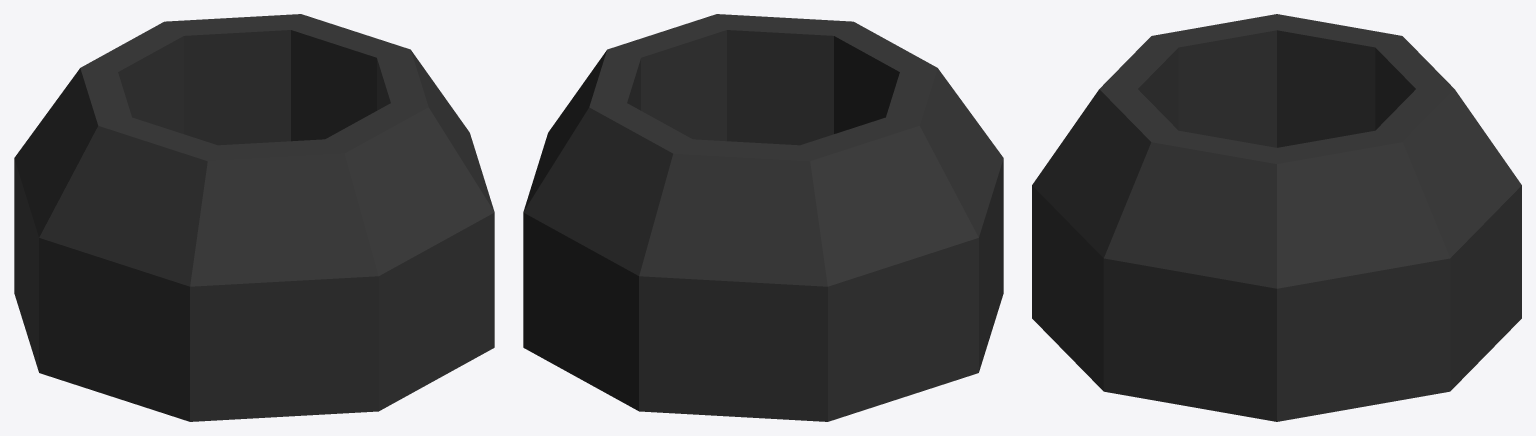
The model's file is trapBase_type_01.fbx.
3 renders of one model, left to right at view 1: azimuth 30°, elevation 25°; view 2: azimuth 150°, elevation 25°; view 3: azimuth 270°, elevation 25°, orthographic.
Visible parts, largest first — view 1: trapBase_type_01; view 2: trapBase_type_01; view 3: trapBase_type_01.
Part boxes in pixels (box(x1,y1,x2,y2)): trapBase_type_01: box(14, 14, 494, 421); trapBase_type_01: box(523, 14, 1003, 421); trapBase_type_01: box(1032, 14, 1521, 421).
Bounding box in the file's own units: 12 × 6.2 × 12.
